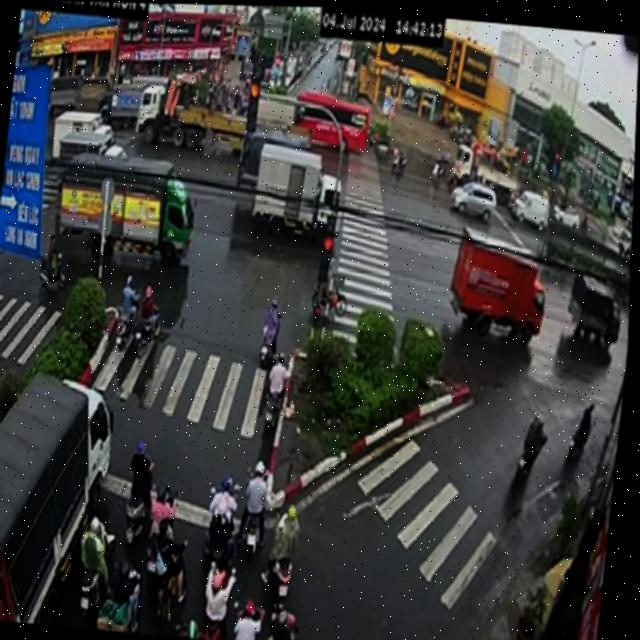Red: (318, 215, 337, 284), (245, 62, 263, 133)
